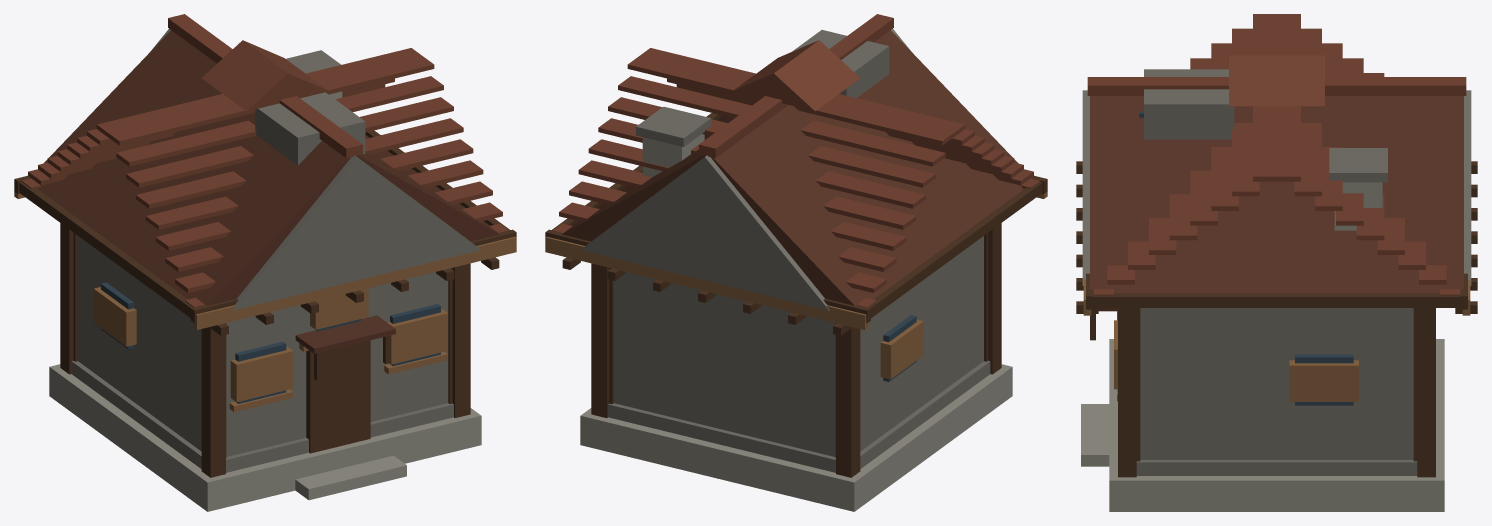
Rendered from house_stone.glb.
3 renders of one model, left to right at view 1: azimuth 30°, elevation 25°; view 2: azimuth 150°, elevation 25°; view 3: azimuth 270°, elevation 25°, orthographic. The views are drawn at different scales.
Parts seen in each view (by area): view 1: house_stone; view 2: house_stone; view 3: house_stone.
Boxes of the visible parts, x1,y1,x2,y2 form: house_stone: [14, 14, 516, 511]; house_stone: [545, 14, 1047, 511]; house_stone: [1076, 14, 1477, 511].
Bounding box in the file's own units: 4.58 × 4.95 × 4.67.
